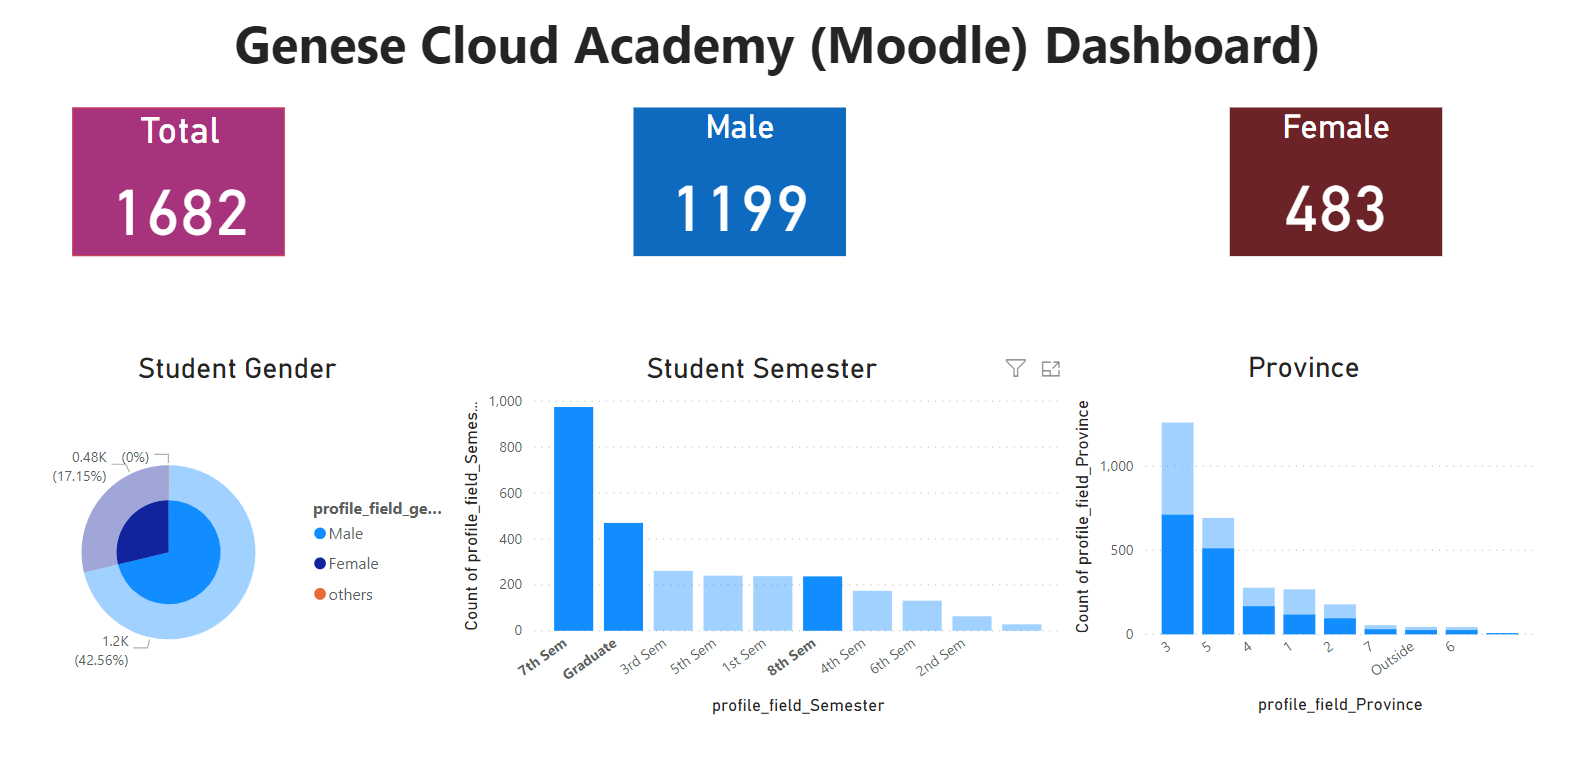

The page's visual inventory and layout, read from the dashboard file:
{"tool":"powerbi","page":{"name":"Dashboard","canvas":[1280,720],"ordinal":0},"visuals":[{"type":"pieChart","title":"Student Gender","fields":{"Category":["user_latest.profile_field_gender1"],"Series":["user_latest.profile_field_gender1"],"Y":["CountNonNull(user_latest.profile_field_gender)"]},"box":[2.1,303.2,367.2,310.5],"z":0},{"type":"columnChart","title":"Student Semester","fields":{"Category":["user_latest.profile_field_Semester1"],"Y":["CountNonNull(user_latest.profile_field_Semester)1"]},"box":[369.4,303.2,513.4,310.5],"z":1000},{"type":"columnChart","title":"Province","fields":{"Category":["user_latest.profile_field_Province1"],"Y":["CountNonNull(user_latest.profile_field_Province)1"]},"box":[882.3,302.7,397.4,310.5],"z":2000},{"type":"card","title":"Total","fields":{"Values":["CountNonNull(user_latest.id)"]},"box":[47.1,98.8,178.8,124.4],"z":3000},{"type":"card","title":"Male","fields":{"Values":["CountNonNull(user_latest.profile_field_gender)"]},"box":[518.2,98.8,178.8,124.4],"z":4000},{"type":"card","title":"Female","fields":{"Values":["CountNonNull(user_latest.profile_field_gender)"]},"box":[1019.5,98.8,178.8,124.4],"z":5000},{"type":"textbox","box":[0,10.9,1279.3,72.5],"z":6000},{"type":"card","fields":{"Values":["Min(Kathmandu.datetime)"]},"box":[994.2,641.5,268.2,68.9],"z":7000}]}

Visuals, with their boxes on the page's 1280x720 design canvas (x1, y1, x2, y2). These are canvas units, not pixel positions in the 1587x770 screenshot, which may show the page scaled, cropped or inside an application window:
"Student Gender" pieChart: crop(2, 303, 369, 614)
"Student Semester" columnChart: crop(369, 303, 883, 614)
"Province" columnChart: crop(882, 303, 1280, 613)
"Total" card: crop(47, 99, 226, 223)
"Male" card: crop(518, 99, 697, 223)
"Female" card: crop(1020, 99, 1198, 223)
textbox: crop(0, 11, 1279, 83)
card - Min(Kathmandu.datetime): crop(994, 642, 1262, 710)
